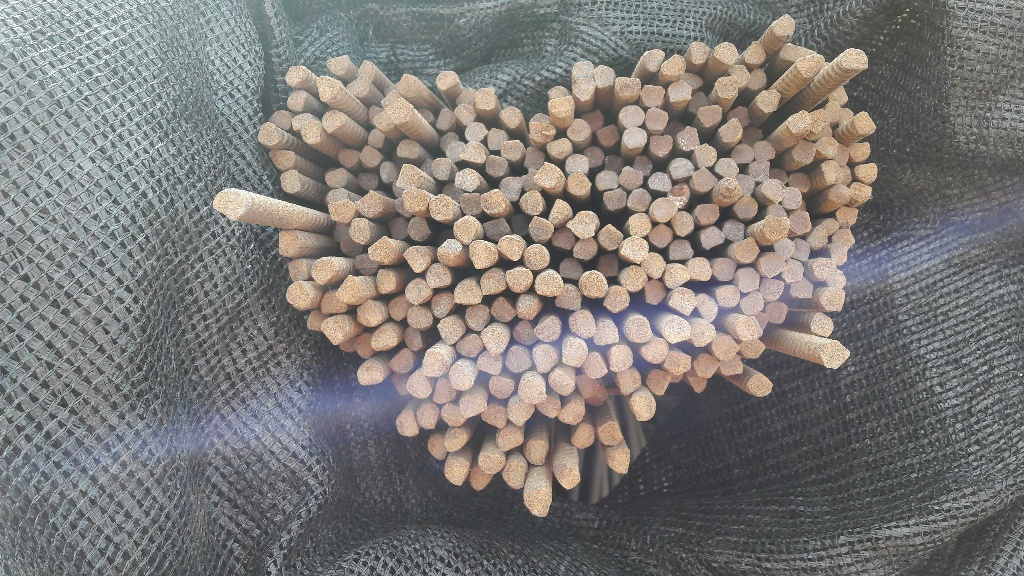dipstick: (575, 374, 609, 407), (814, 342, 851, 369), (578, 269, 608, 299), (628, 390, 658, 420), (621, 236, 651, 265), (546, 369, 577, 397), (567, 210, 599, 237), (523, 487, 550, 519), (469, 240, 498, 269), (517, 375, 546, 404), (505, 396, 534, 425), (213, 189, 241, 219), (661, 315, 691, 343), (688, 317, 716, 347), (640, 335, 667, 366), (523, 243, 552, 271), (436, 315, 463, 345), (478, 326, 505, 356), (441, 455, 468, 485), (607, 343, 634, 373), (694, 292, 720, 323), (535, 269, 563, 297), (668, 287, 696, 315), (554, 463, 581, 492), (553, 284, 583, 310), (620, 264, 650, 290), (561, 338, 586, 369), (794, 52, 825, 77), (504, 267, 532, 294), (479, 269, 506, 297), (285, 282, 312, 310), (532, 345, 559, 373), (603, 286, 630, 314), (337, 276, 363, 305), (480, 402, 509, 428), (623, 316, 652, 342), (757, 252, 786, 278), (598, 222, 623, 252), (661, 264, 692, 288), (839, 48, 871, 71), (597, 419, 624, 446), (462, 303, 488, 331), (559, 400, 585, 428), (594, 320, 620, 348), (808, 312, 836, 338), (370, 326, 399, 351), (421, 349, 446, 378), (569, 309, 594, 338), (646, 367, 670, 397), (498, 234, 524, 261), (404, 278, 431, 304), (570, 423, 596, 450), (315, 75, 340, 103), (356, 192, 384, 217), (368, 238, 393, 266), (447, 364, 475, 389), (503, 347, 531, 372), (394, 410, 419, 438), (606, 446, 631, 474), (771, 12, 796, 40), (711, 335, 739, 360), (482, 216, 511, 240), (494, 429, 523, 453), (671, 209, 695, 238), (356, 300, 382, 326), (405, 305, 431, 331), (490, 297, 516, 323), (616, 367, 642, 393), (694, 353, 720, 379), (401, 188, 428, 213), (529, 215, 554, 242), (460, 394, 487, 419), (402, 245, 426, 273), (515, 293, 539, 321), (525, 438, 549, 466), (356, 363, 385, 386), (658, 55, 687, 78), (734, 317, 763, 340), (513, 319, 538, 345), (536, 317, 562, 342), (595, 252, 620, 278), (641, 279, 666, 305), (645, 107, 670, 133), (735, 266, 761, 291), (452, 216, 476, 243), (426, 262, 450, 289), (489, 374, 513, 401), (665, 350, 692, 374), (651, 197, 678, 221), (759, 178, 786, 202), (502, 461, 525, 489), (716, 119, 744, 142), (266, 148, 295, 170), (427, 432, 449, 461), (538, 392, 560, 421), (781, 41, 814, 60), (320, 109, 345, 134), (519, 190, 544, 215), (455, 167, 480, 192), (437, 238, 462, 263), (734, 237, 759, 262), (406, 215, 430, 241), (319, 319, 343, 345), (430, 292, 454, 318), (691, 143, 717, 167), (731, 195, 757, 219), (348, 218, 371, 245), (549, 199, 572, 226), (455, 281, 482, 304), (456, 334, 483, 357), (667, 157, 694, 180), (715, 284, 742, 307), (418, 400, 438, 431), (318, 292, 346, 314), (257, 121, 282, 145), (468, 466, 492, 491), (478, 450, 503, 474), (648, 222, 672, 247), (625, 188, 650, 212), (620, 104, 644, 129), (788, 209, 812, 234), (759, 277, 783, 302), (819, 288, 844, 312), (429, 194, 452, 220), (311, 257, 334, 283), (403, 324, 426, 350), (407, 374, 430, 400), (444, 426, 467, 452), (584, 352, 607, 378), (668, 237, 694, 260), (648, 134, 674, 157), (641, 83, 667, 106), (713, 41, 739, 64), (755, 90, 781, 113), (689, 257, 712, 283), (747, 375, 773, 398), (614, 76, 641, 98), (641, 48, 662, 76), (547, 96, 576, 116), (276, 231, 300, 255), (573, 236, 597, 260), (440, 402, 464, 426), (603, 188, 627, 212), (597, 123, 621, 147), (647, 171, 671, 195), (787, 109, 811, 133), (814, 135, 838, 159), (818, 160, 842, 184), (811, 257, 835, 281), (499, 176, 522, 201), (536, 162, 559, 187), (559, 256, 584, 279), (477, 353, 502, 376), (643, 253, 666, 278), (716, 75, 739, 100), (805, 226, 830, 249), (712, 256, 735, 281), (325, 55, 351, 77), (668, 79, 694, 101), (827, 184, 853, 206), (694, 203, 720, 225), (739, 292, 765, 314), (376, 267, 397, 294), (545, 138, 572, 159), (738, 340, 766, 360), (462, 141, 485, 165), (460, 192, 483, 216), (354, 253, 378, 276), (551, 227, 575, 250), (744, 41, 767, 65), (677, 126, 701, 149), (853, 110, 877, 133), (792, 140, 816, 163), (720, 353, 744, 376), (278, 169, 300, 194), (499, 103, 521, 128), (353, 333, 375, 358), (432, 378, 454, 403), (627, 213, 652, 235), (790, 277, 815, 299), (328, 200, 354, 221), (618, 167, 644, 188), (687, 90, 713, 111), (697, 105, 723, 126), (323, 166, 350, 186), (285, 64, 308, 87), (753, 138, 776, 161), (723, 218, 746, 241), (301, 121, 323, 145), (389, 350, 413, 372), (572, 78, 596, 100), (567, 117, 589, 141), (698, 226, 722, 248), (765, 301, 789, 323), (268, 109, 293, 130), (483, 155, 508, 176), (566, 173, 591, 194), (580, 146, 605, 167), (622, 128, 647, 149), (787, 171, 812, 192), (692, 167, 717, 188), (668, 182, 689, 207), (528, 122, 554, 142), (834, 206, 860, 226), (762, 218, 788, 238), (688, 41, 710, 64), (729, 64, 751, 87), (851, 181, 874, 203), (344, 76, 368, 97), (387, 100, 411, 121), (464, 120, 488, 141), (386, 216, 407, 240), (826, 242, 847, 266), (783, 260, 804, 284), (398, 163, 418, 188), (511, 212, 530, 238), (359, 144, 381, 166), (475, 88, 497, 110), (522, 146, 544, 168), (397, 138, 420, 159), (848, 141, 871, 162), (719, 177, 742, 198), (833, 228, 856, 249), (486, 126, 506, 150), (594, 170, 618, 190), (747, 67, 767, 91), (339, 236, 364, 255), (580, 110, 605, 129), (287, 89, 309, 110), (456, 103, 477, 125), (304, 310, 326, 331), (855, 161, 877, 182), (355, 170, 378, 190), (285, 259, 308, 279), (740, 124, 763, 144), (565, 154, 589, 173), (793, 239, 812, 263), (604, 152, 625, 173), (397, 74, 419, 94), (437, 70, 459, 90), (386, 300, 406, 322), (775, 236, 795, 258), (501, 139, 520, 162), (728, 105, 751, 124), (715, 157, 738, 176), (290, 111, 314, 129), (337, 148, 361, 166), (378, 160, 396, 184), (594, 65, 614, 86), (749, 160, 770, 180), (782, 187, 802, 208), (356, 59, 375, 81), (367, 127, 386, 149), (435, 107, 454, 129), (432, 157, 451, 179), (732, 143, 754, 162), (686, 374, 708, 393), (809, 110, 827, 133), (832, 84, 850, 107), (572, 61, 596, 78), (521, 171, 542, 190), (770, 166, 791, 185), (634, 154, 652, 176), (738, 174, 756, 196), (835, 141, 850, 167), (331, 222, 351, 241), (668, 366, 687, 386), (682, 72, 703, 90), (441, 182, 463, 199), (390, 372, 407, 394), (829, 268, 846, 290), (372, 111, 392, 129), (392, 198, 410, 218), (382, 90, 403, 107), (446, 140, 463, 161), (824, 101, 840, 123), (439, 129, 456, 149), (323, 188, 349, 201), (763, 204, 787, 218), (839, 164, 854, 185), (436, 227, 453, 245), (337, 335, 354, 353), (367, 104, 383, 123), (823, 217, 839, 236), (456, 90, 476, 105), (418, 158, 435, 175), (754, 311, 768, 331), (547, 85, 570, 97), (529, 112, 550, 125), (668, 119, 686, 134), (417, 107, 433, 123)
